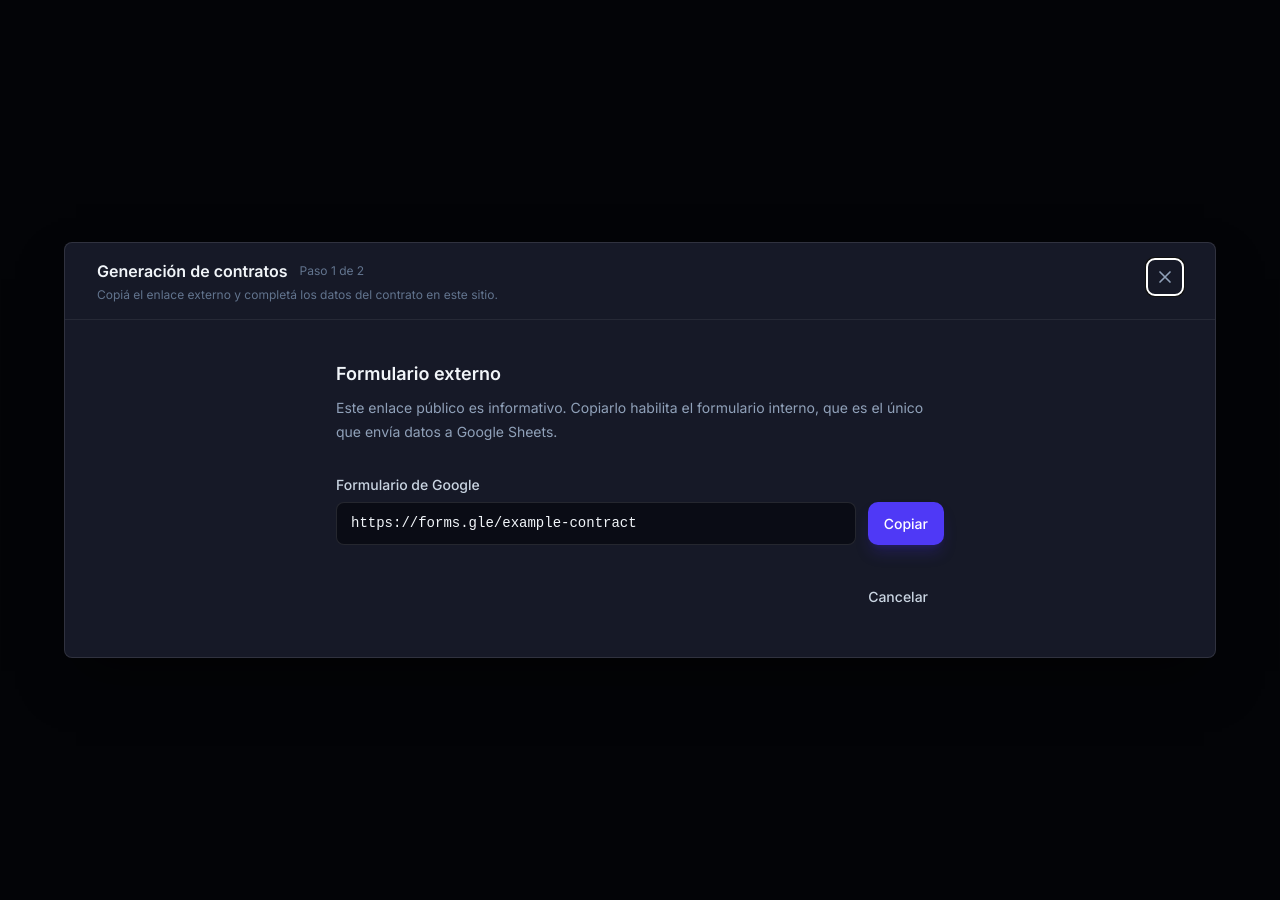
Test: ContractGenerationModal › keeps step one open and announces a clipboard failure
Click the button "Copiar" at (906, 524), box left=868, top=502, right=944, bottom=545
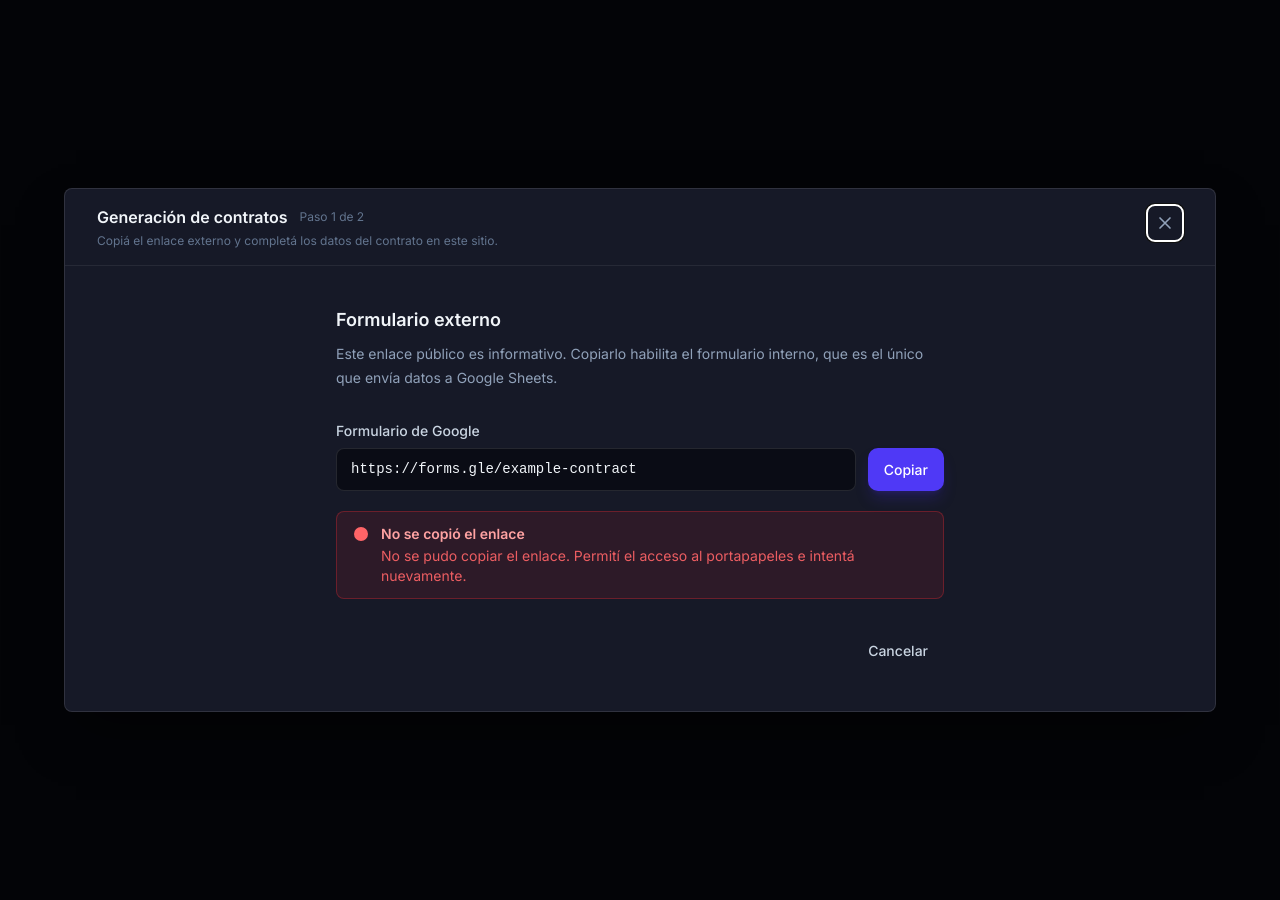
Expected: the text "Paso 1 de 2" is shown, left=300, top=209, right=364, bottom=225
Expected: the text "Permití el acceso al portapapeles" is shown, left=381, top=547, right=855, bottom=584
